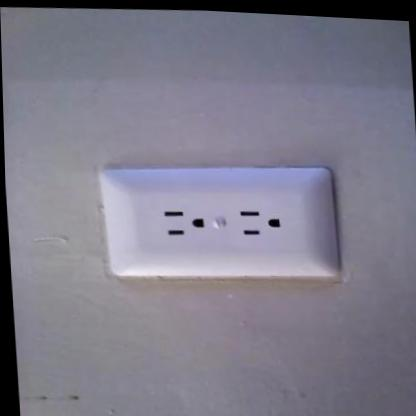OUTLET: (102, 157, 338, 289)
